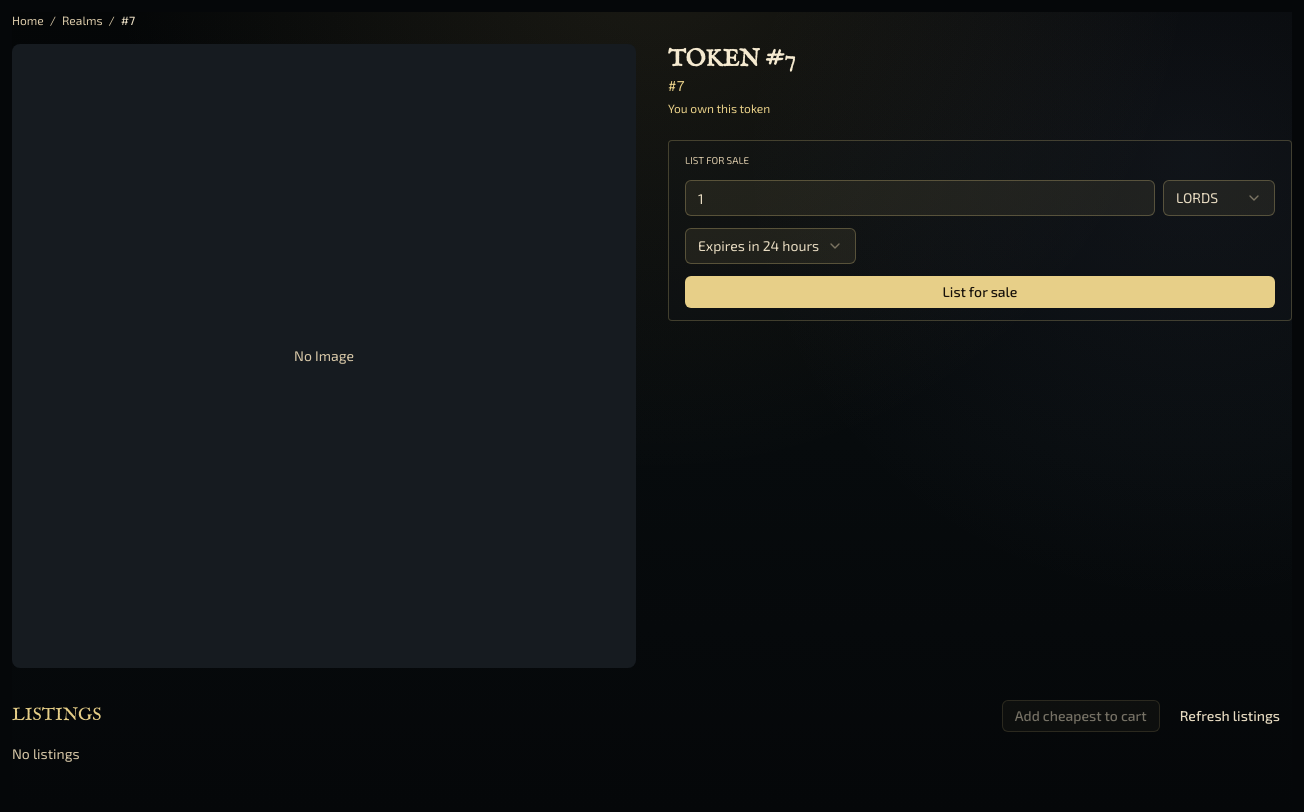
token detail view › tx_status_registers_5s_auto_clear_timer_on_success
Click the button "List for sale": (980,292) x1=685 y1=276 x2=1275 y2=308
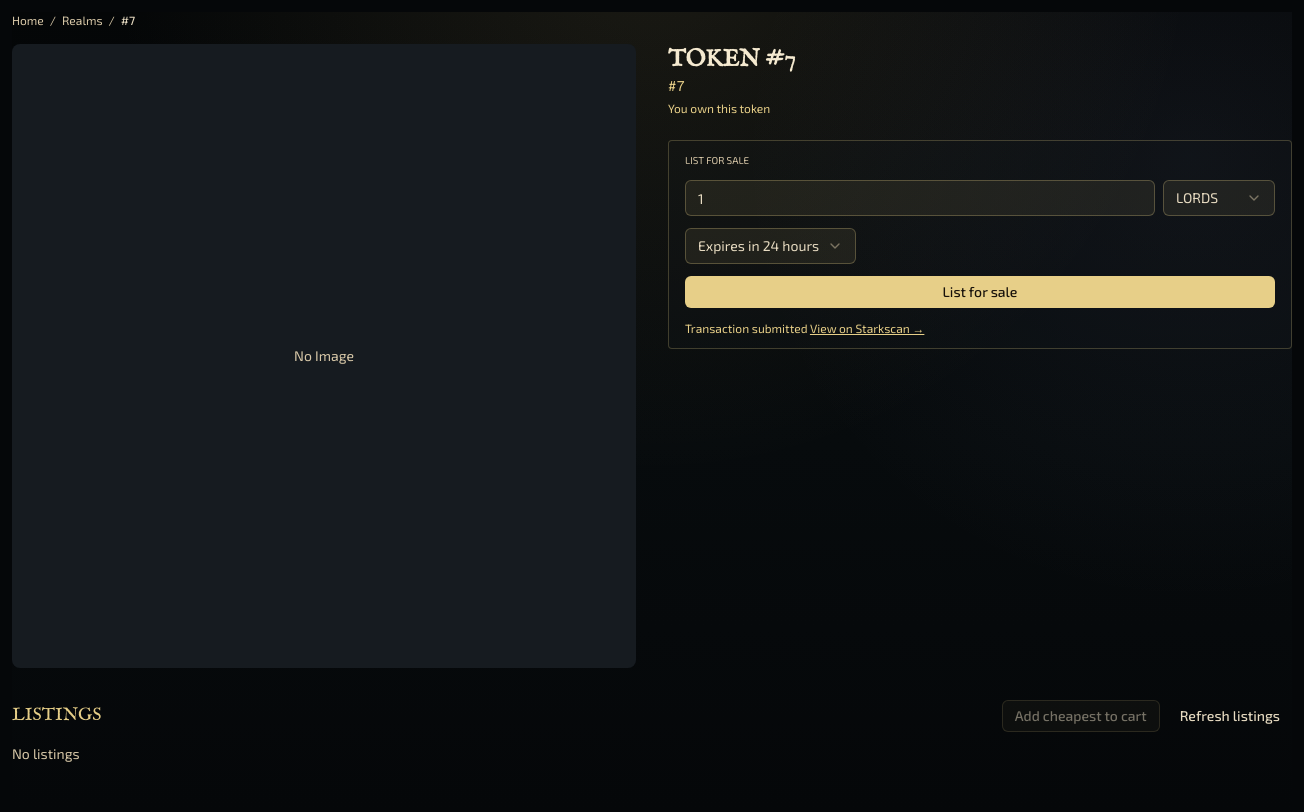
Now the text "Transaction submitted View on Starkscan →" is shown, box x1=685 y1=321 x2=924 y2=335
